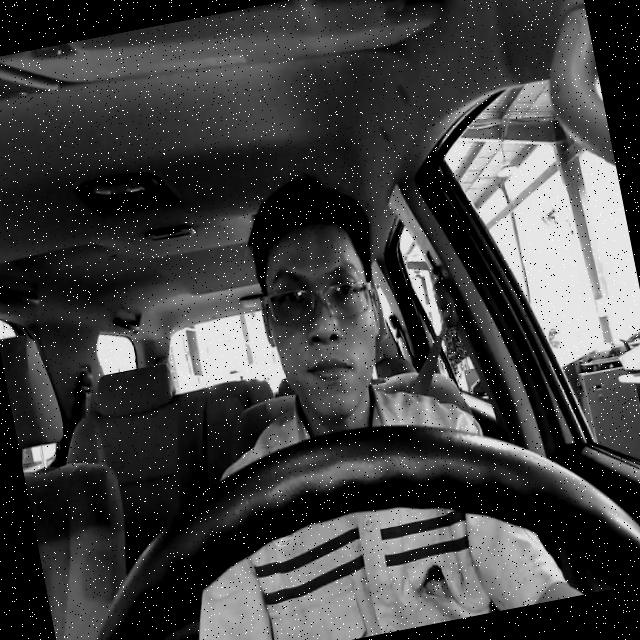focused: (244, 209, 400, 430)
